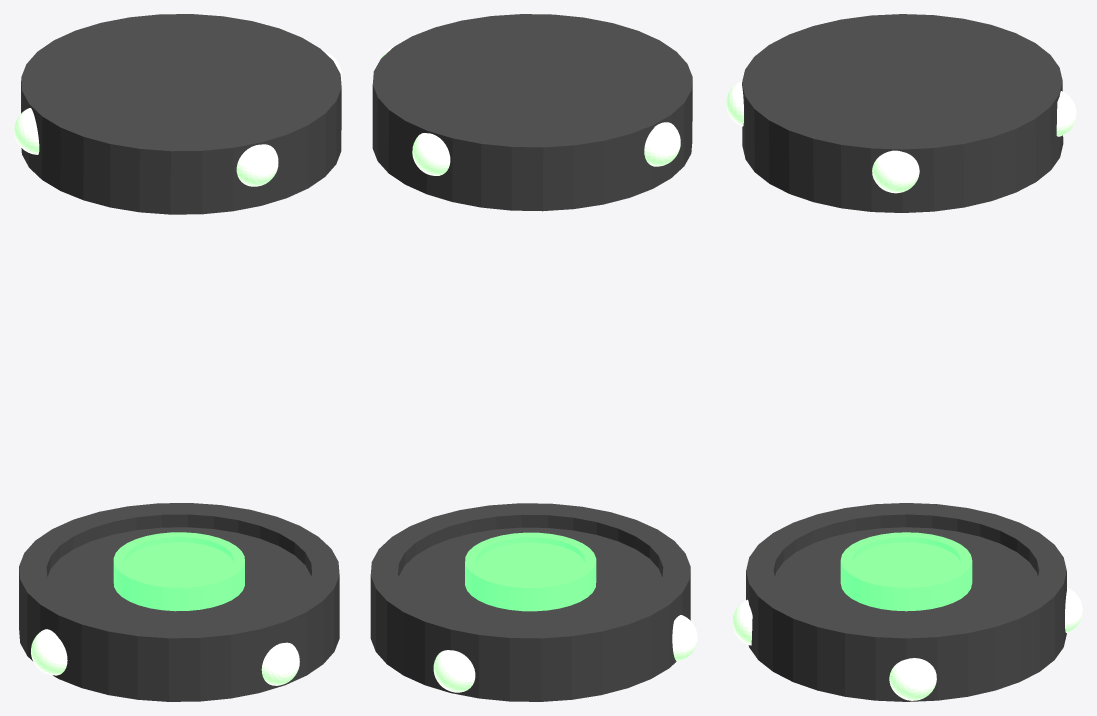
File: portal 1.fbx
3 views of the same model, side by side, from view 1: azimuth 30°, elevation 25°; view 2: azimuth 150°, elevation 25°; view 3: azimuth 270°, elevation 25° (orthographic).
Visible parts, largest first — view 1: Cylinder.114, Cylinder.107, Cylinder.113, Sphere.012, Sphere.001, Sphere, Sphere.014; view 2: Cylinder.114, Cylinder.107, Cylinder.113, Sphere.003, Sphere.015, Sphere.014, Sphere.001; view 3: Cylinder.114, Cylinder.107, Cylinder.113, Sphere.002, Sphere.013, Sphere, Sphere.015, Sphere.003, Sphere.012.
Part boxes in pixels (x1,y1,x2,y2): Cylinder.114: (21,14,341,214); Cylinder.107: (19,503,339,701); Cylinder.113: (113,532,244,611); Sphere.012: (236,144,278,186); Sphere.001: (31,629,67,675); Sphere: (261,642,299,685); Sphere.014: (14,108,39,154); Cylinder.114: (372,14,692,211); Cylinder.107: (370,503,690,701); Cylinder.113: (465,532,596,611); Sphere.003: (433,650,475,692); Sphere.015: (412,133,450,175); Sphere.014: (644,122,680,166); Sphere.001: (672,615,697,661); Cylinder.114: (742,14,1063,212); Cylinder.107: (746,503,1066,701); Cylinder.113: (840,532,972,611); Sphere.002: (889,658,936,700); Sphere.013: (872,150,919,193); Sphere: (732,599,752,645); Sphere.015: (1056,91,1076,136); Sphere.003: (1065,587,1082,632); Sphere.012: (726,81,743,126).
Bounding box in the file's own units: 141 × 241 × 141.
